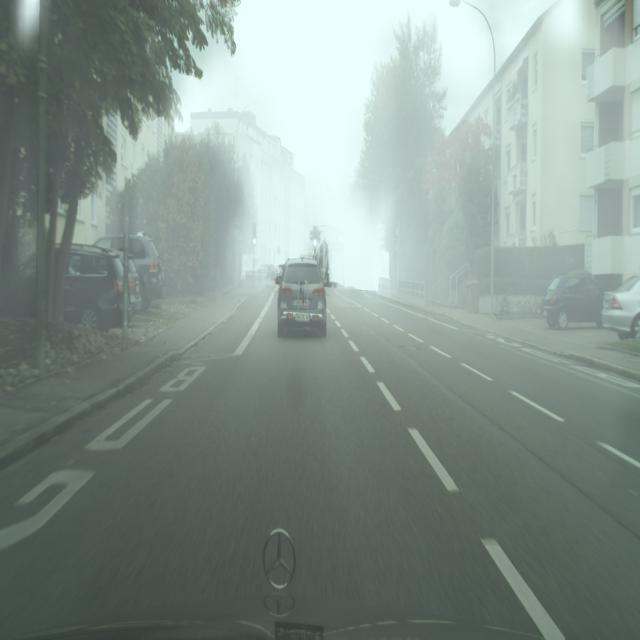person: (2, 245, 139, 332), (62, 246, 139, 332), (93, 232, 166, 310), (277, 257, 327, 338), (542, 271, 603, 329), (601, 274, 640, 339)
